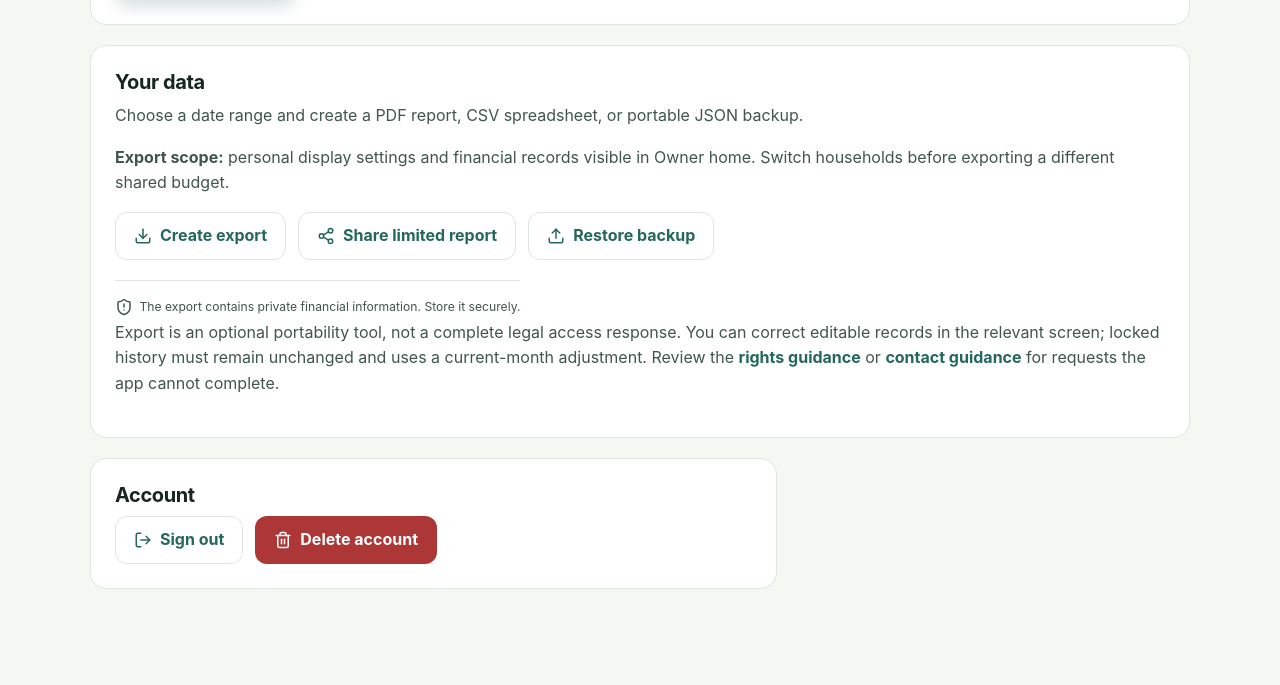
COMP-007 account deletion › does not request deletion when recent password verification fails
(page scrolled)
Click the button "Delete account".
click(346, 540)  # box [255,516,437,564]
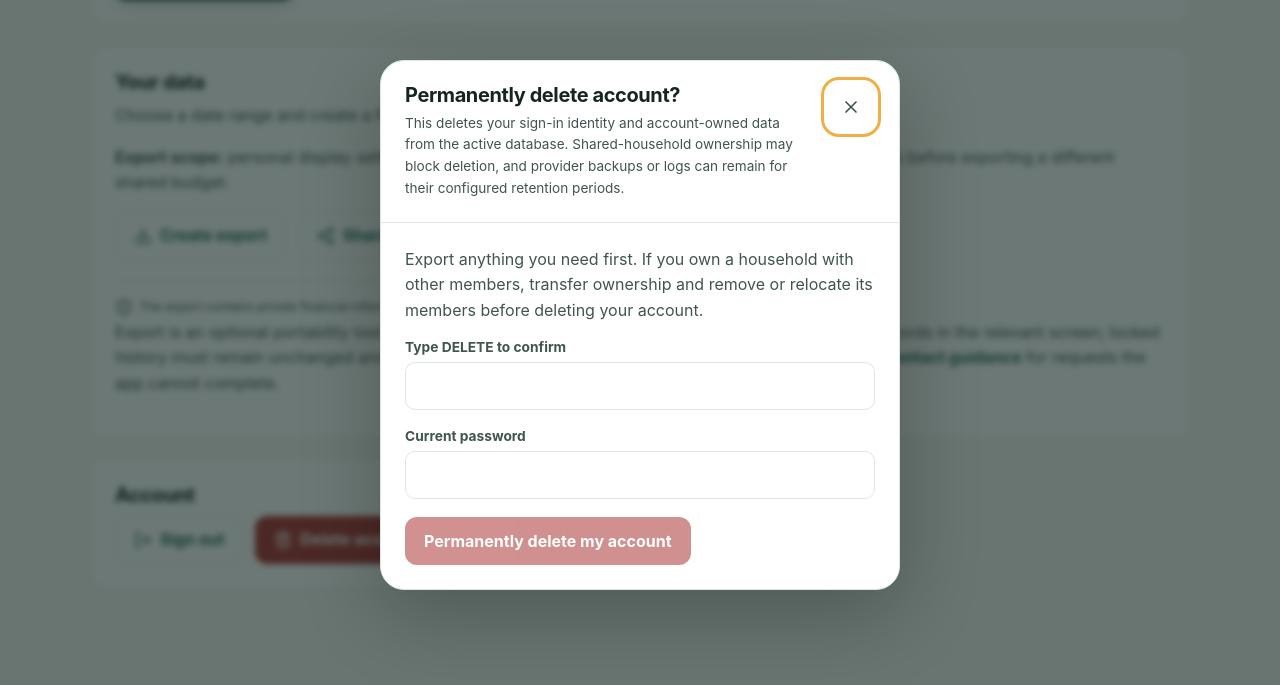
Type "DELETE" into the field labelled "Type DELETE to confirm".
click(640, 386); type("DELETE")  # box [405,362,875,410]
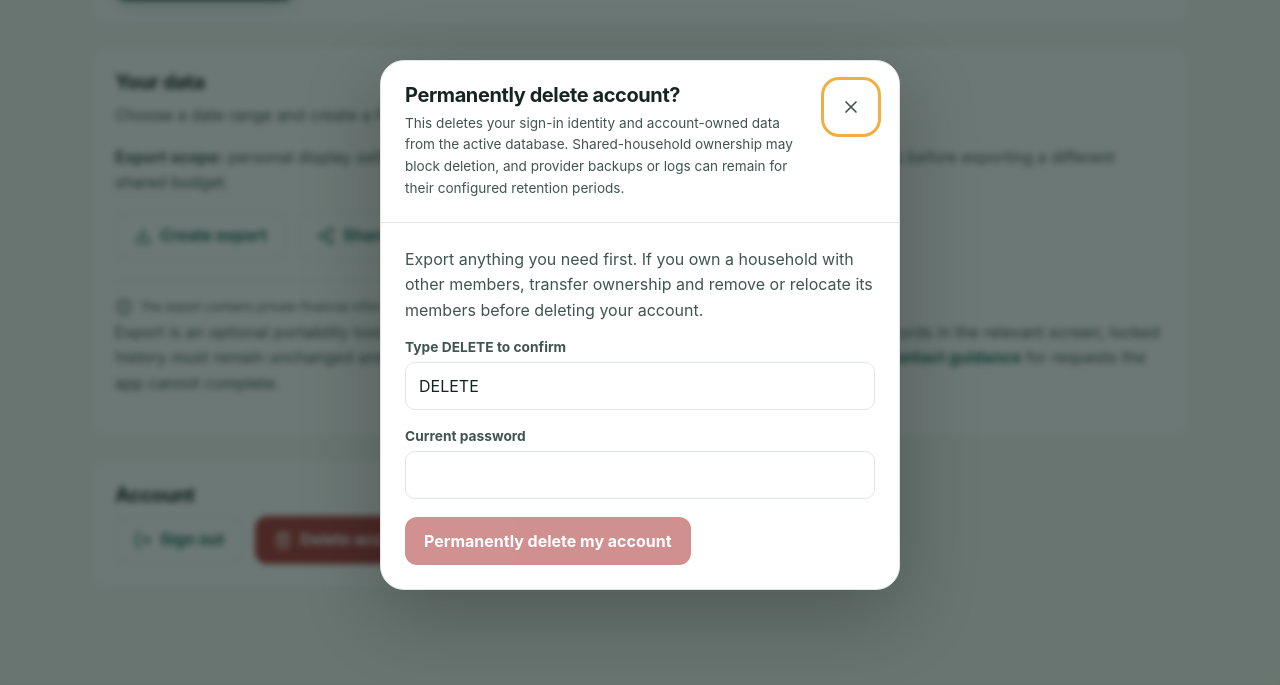
Type "correct horse battery staple" into the password field labelled "Current password".
click(640, 475); type("correct horse battery staple")  # box [405,451,875,499]
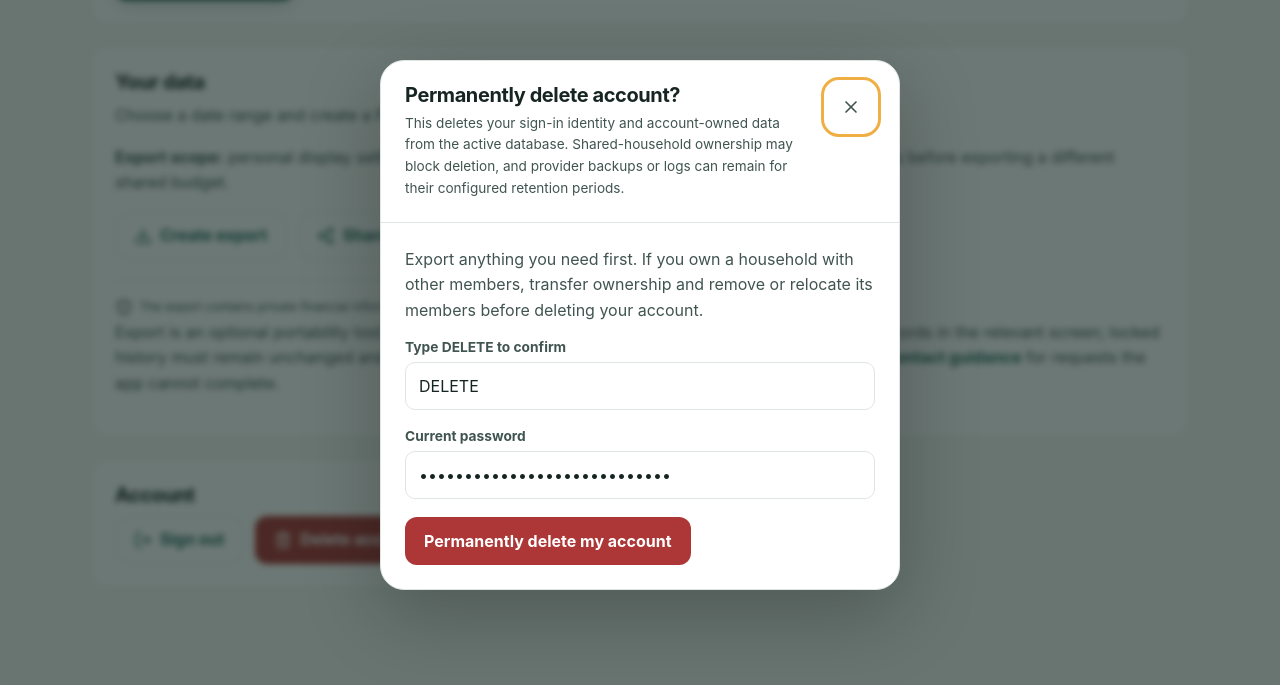
Click the button "Permanently delete my account".
click(548, 541)  # box [405,517,690,565]
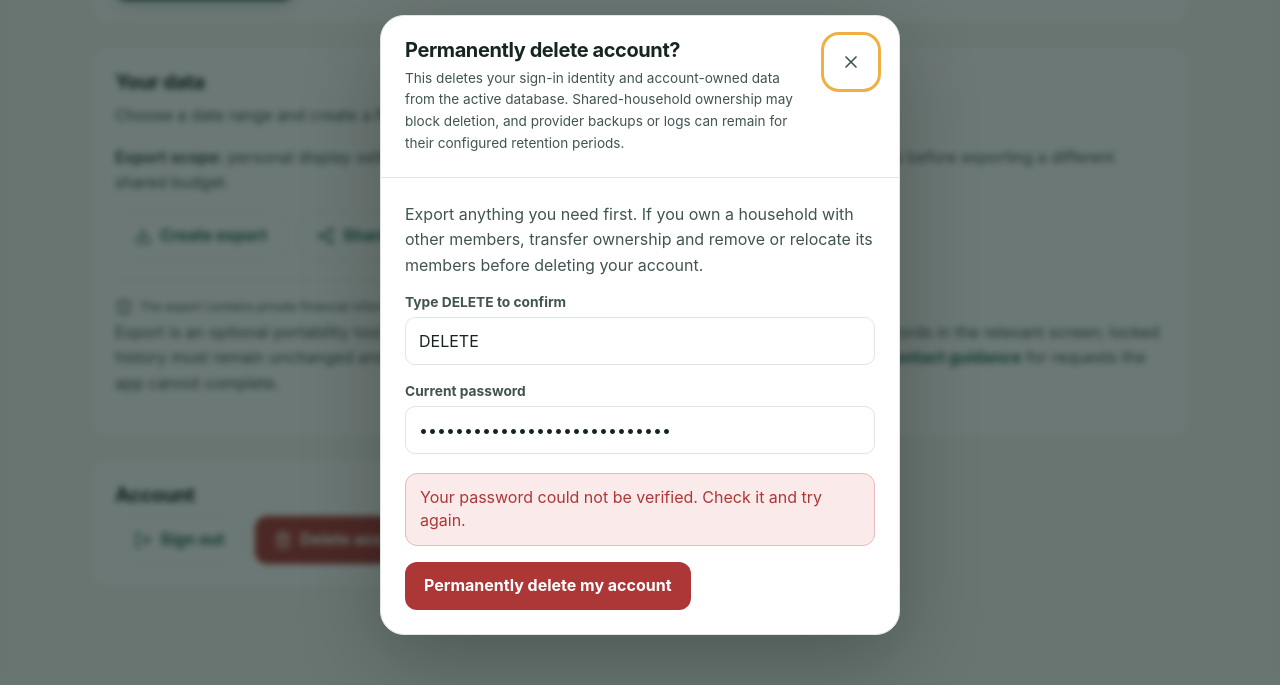
Check: the message shows "password could not be verified", box [420,487,822,530]
